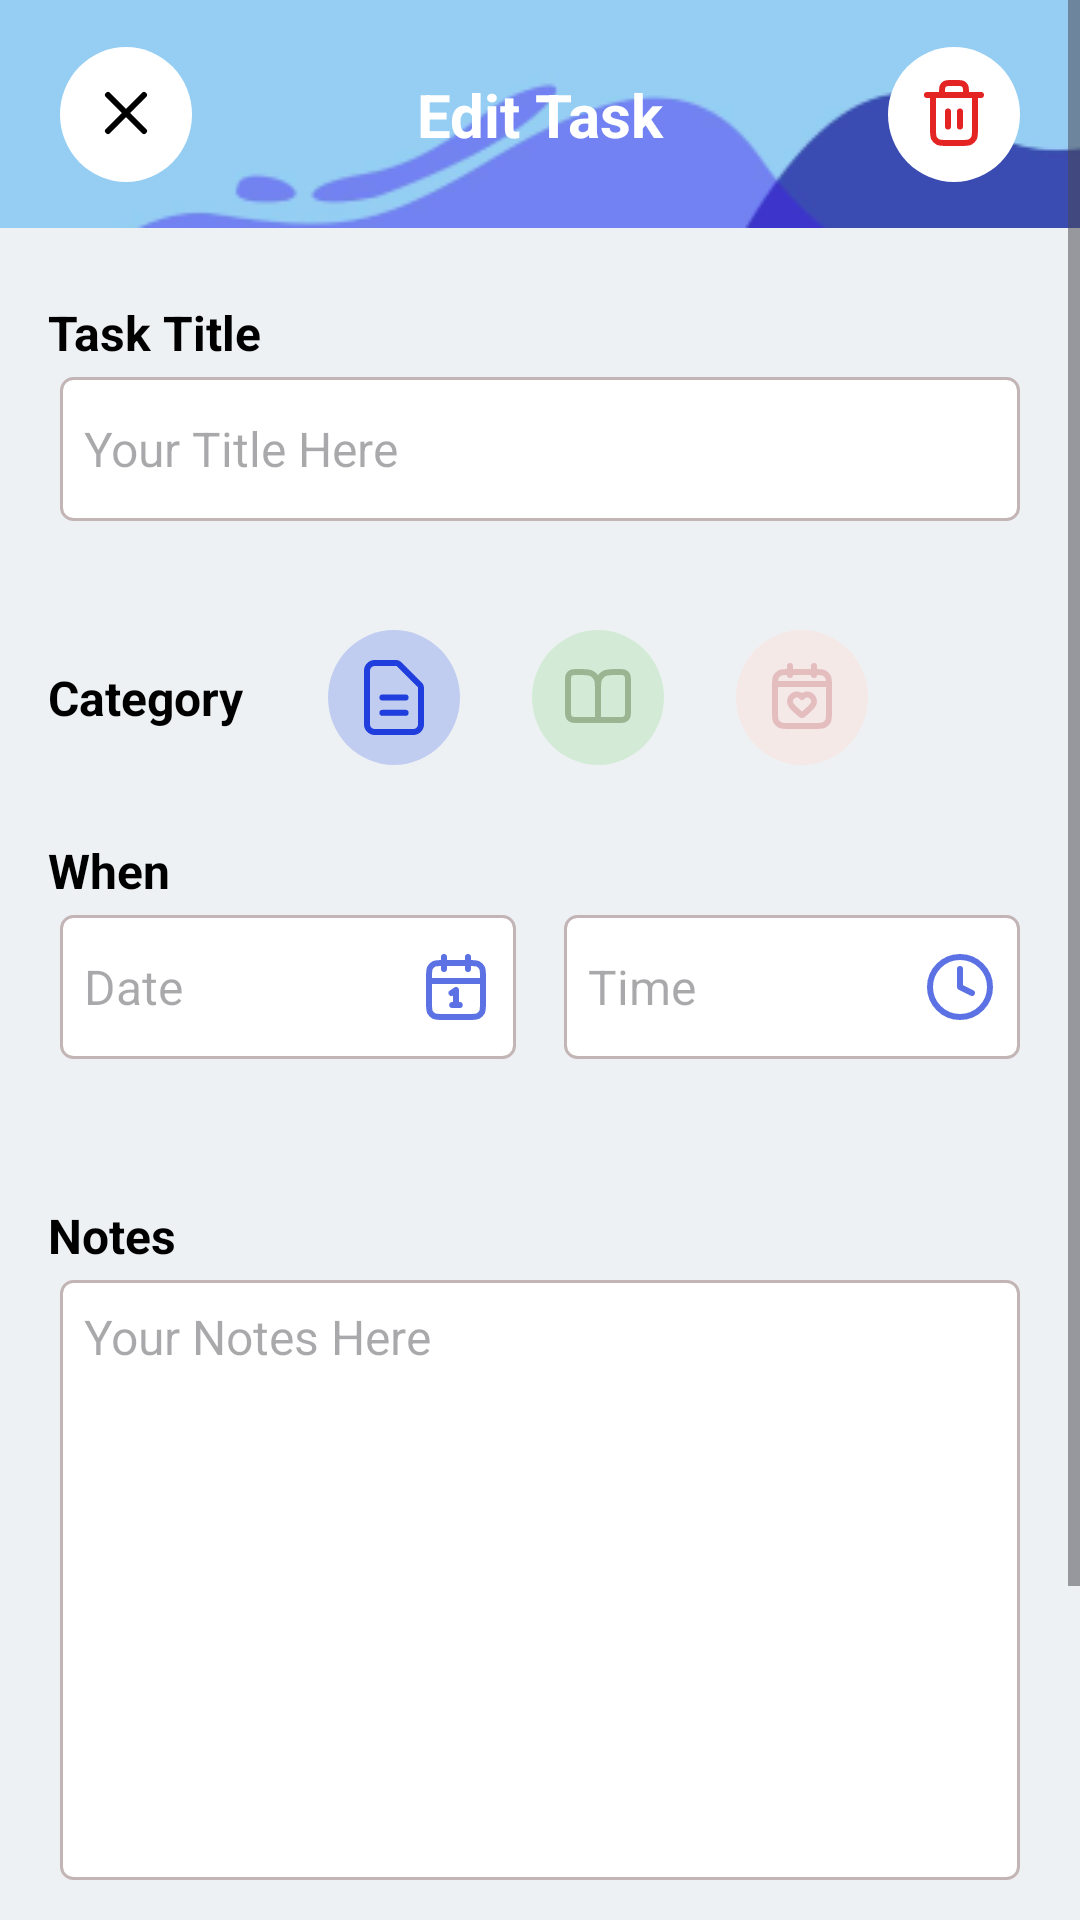

Where to tap for icons on this 1080 × 1920 app screen, as point (x, y):
book: point (598, 697)
event: point (802, 696)
